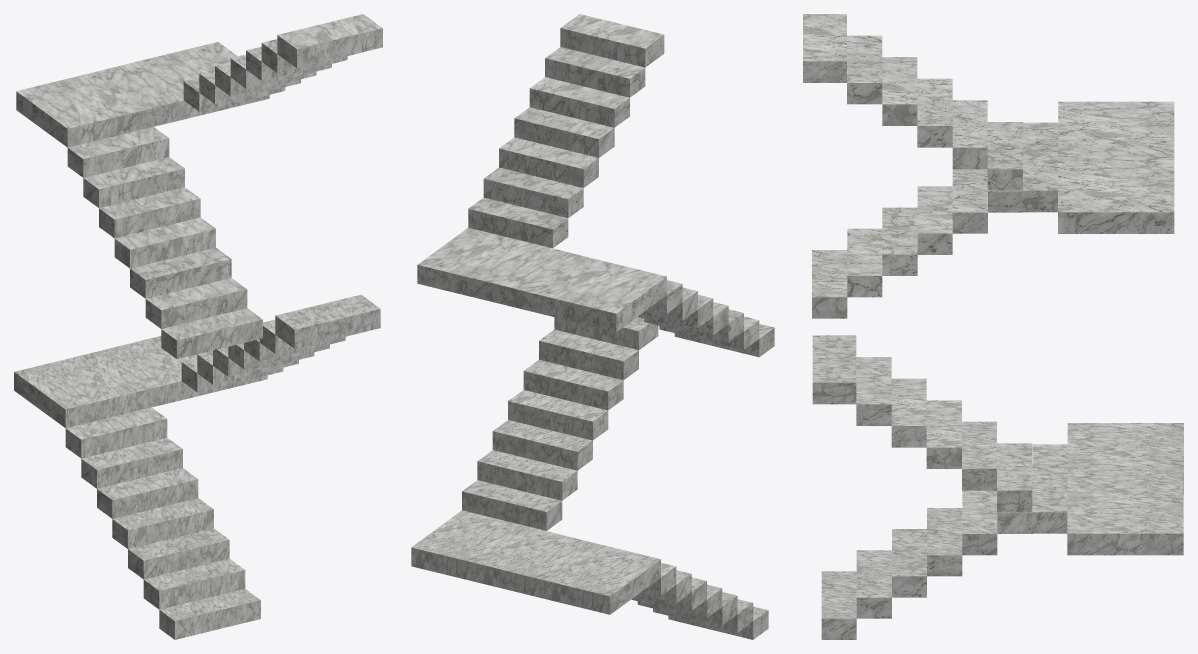
The model's file is stairs.obj.
3 renders of one model, left to right at view 1: azimuth 30°, elevation 25°; view 2: azimuth 150°, elevation 25°; view 3: azimuth 270°, elevation 25°, orthographic. The views are drawn at different scales.
Parts seen in each view (by area): view 1: stairs; view 2: stairs; view 3: stairs.
Boxes of the visible parts, x1,y1,x2,y2 form: stairs: (14, 14, 382, 639); stairs: (411, 14, 774, 639); stairs: (803, 14, 1183, 639).
Bounding box in the file's own units: 2.01 × 5.37 × 2.89.
Materials: 1 (1 with a texture image).
